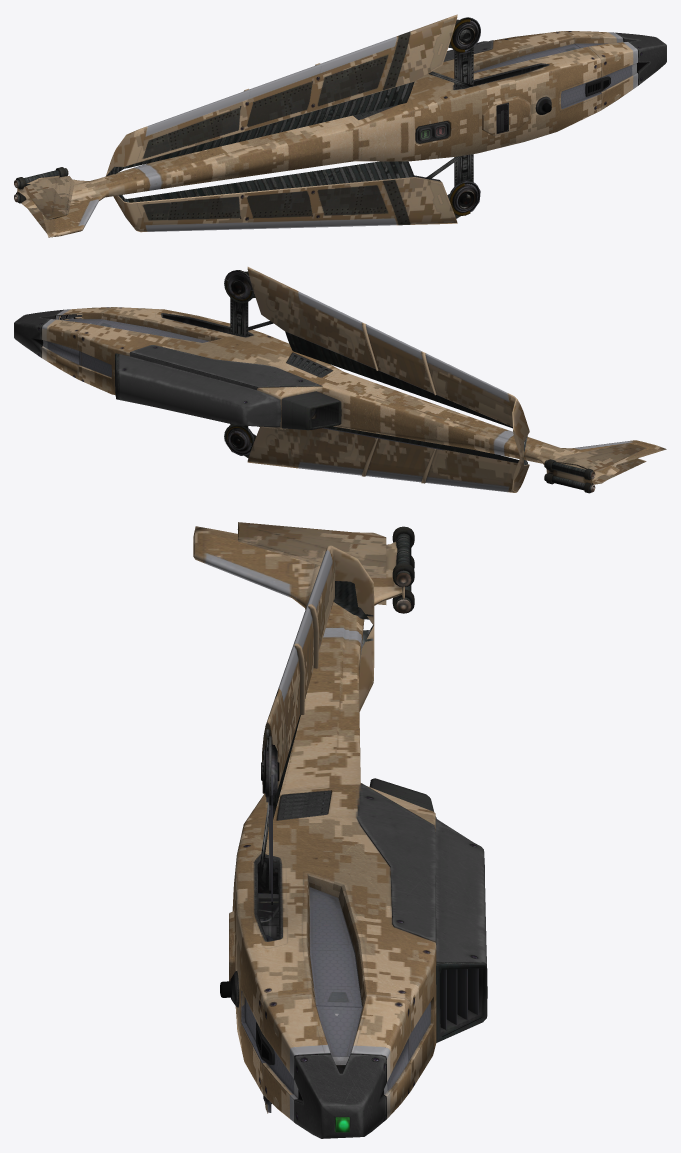
The model's file is veh_t6_drone_hunterkiller_viewmodel_LOD0.obj.
3 renders of one model, top to bottom at view 1: azimuth 30°, elevation 25°; view 2: azimuth 150°, elevation 25°; view 3: azimuth 270°, elevation 25°, orthographic. The views are drawn at different scales.
Visible parts, largest first — view 1: mat_veh_t6_drone_hunterkiller; view 2: mat_veh_t6_drone_hunterkiller; view 3: mat_veh_t6_drone_hunterkiller.
Boxes of the visible parts, bbox=[...] form: mat_veh_t6_drone_hunterkiller: bbox=[14, 14, 666, 237]; mat_veh_t6_drone_hunterkiller: bbox=[14, 267, 666, 493]; mat_veh_t6_drone_hunterkiller: bbox=[193, 522, 487, 1138].
Bounding box in the file's own units: 88.81 × 27.08 × 18.41.
